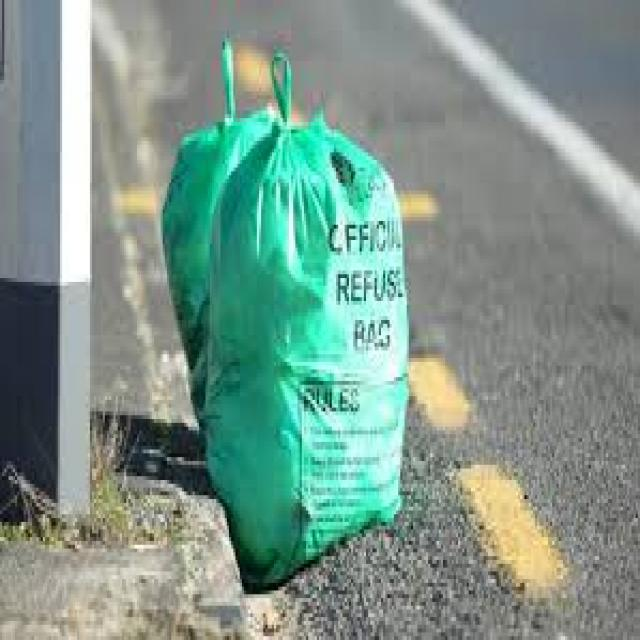plastic_bag: (202, 93, 412, 596)
